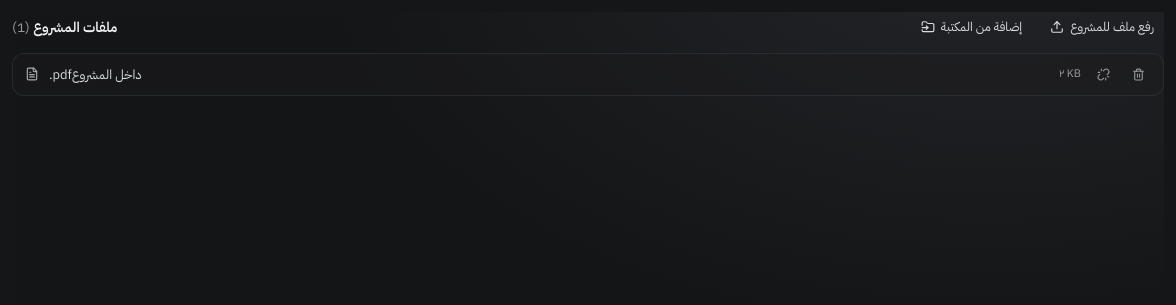
Test: ملفات المشروع › «إضافة من المكتبة» تعرض ملفات المستخدم عدا ملفات المشروع، وتربط بلا نسخة
The width and height of the screenshot is (1176, 305).
Click the button "إضافة من المكتبة" at coordinates (972, 27), box [911,12,1032,43]
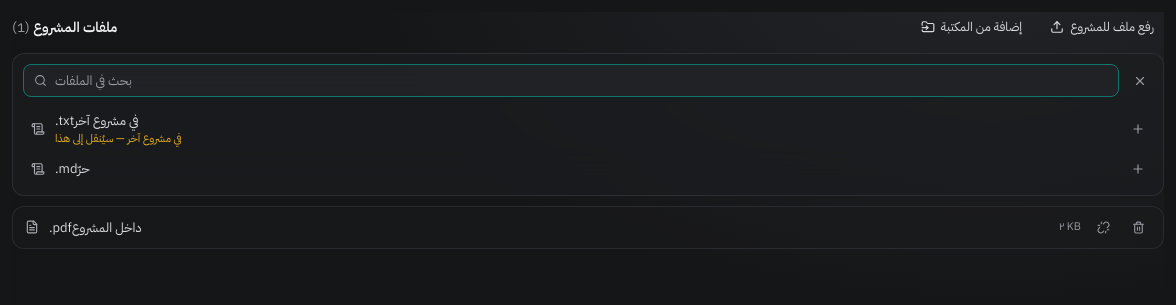
Now the text "في مشروع آخر — سيُنقل إلى هذا" is shown, box [55,130,182,147]
الاسم والامتداد في عنصرين؛ حساب الاسم في jsdom قد يضع بينهما مسافة
Click the button "حرّ.md" at coordinates (38, 169), box [23,153,1153,185]
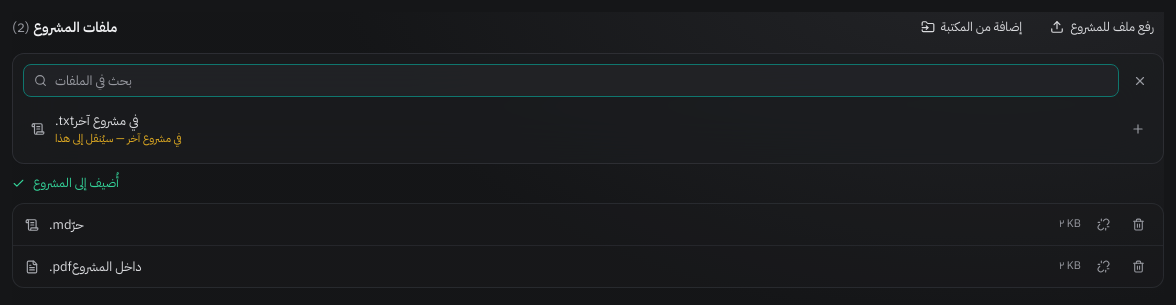
Now the button with aria-label "فتح: حرّ.md" is shown, box [49,215,1049,234]
Now the message reads "أُضيف إلى المشروع", box [33,173,119,192]
